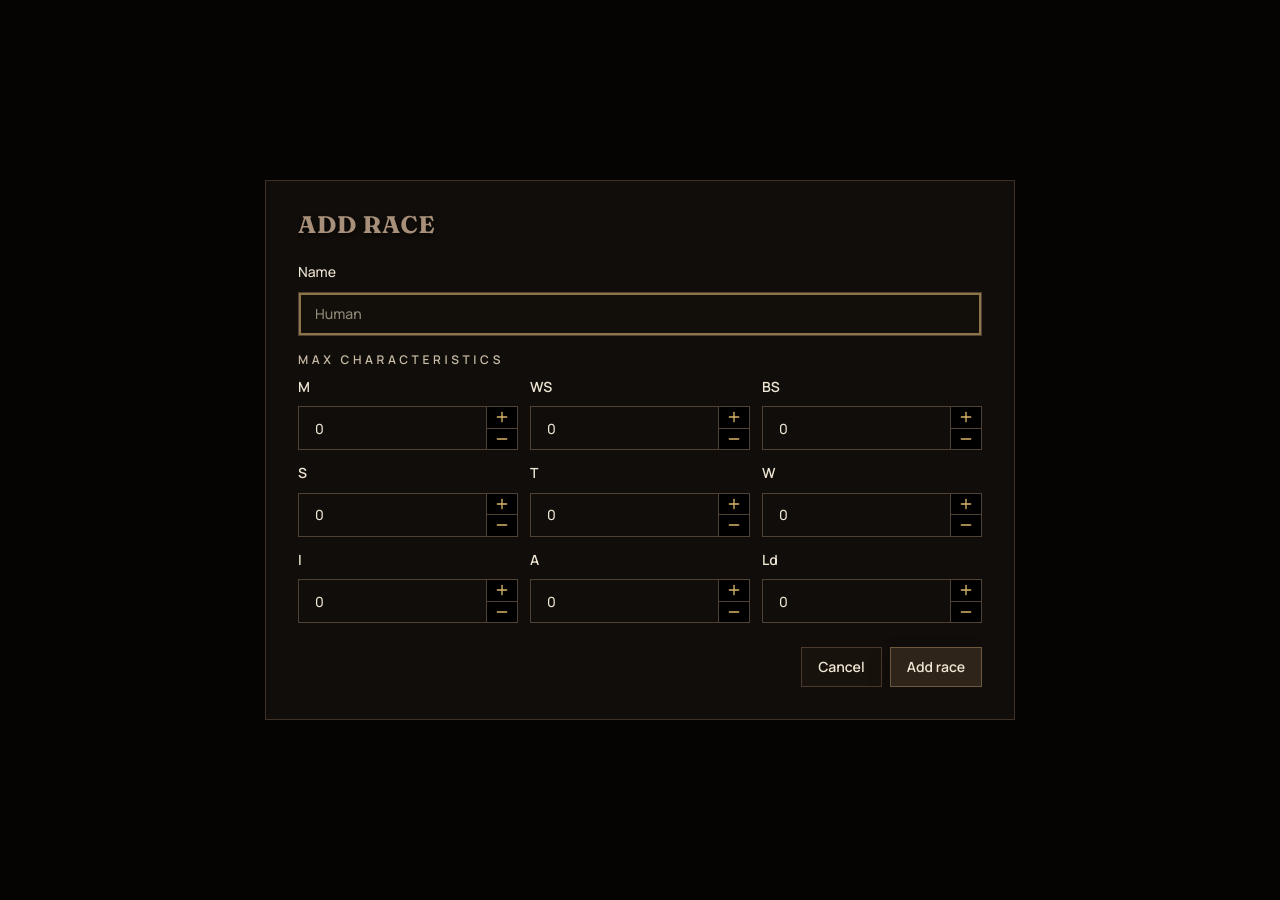
a warband page's dialog: a taken name › lists the matches with no Edit (the dialog can't open one), and restores a book race removed for the campaign
Type "Ogre" into the field with placeholder "Human" at [640, 314], box [298,292,982,336]
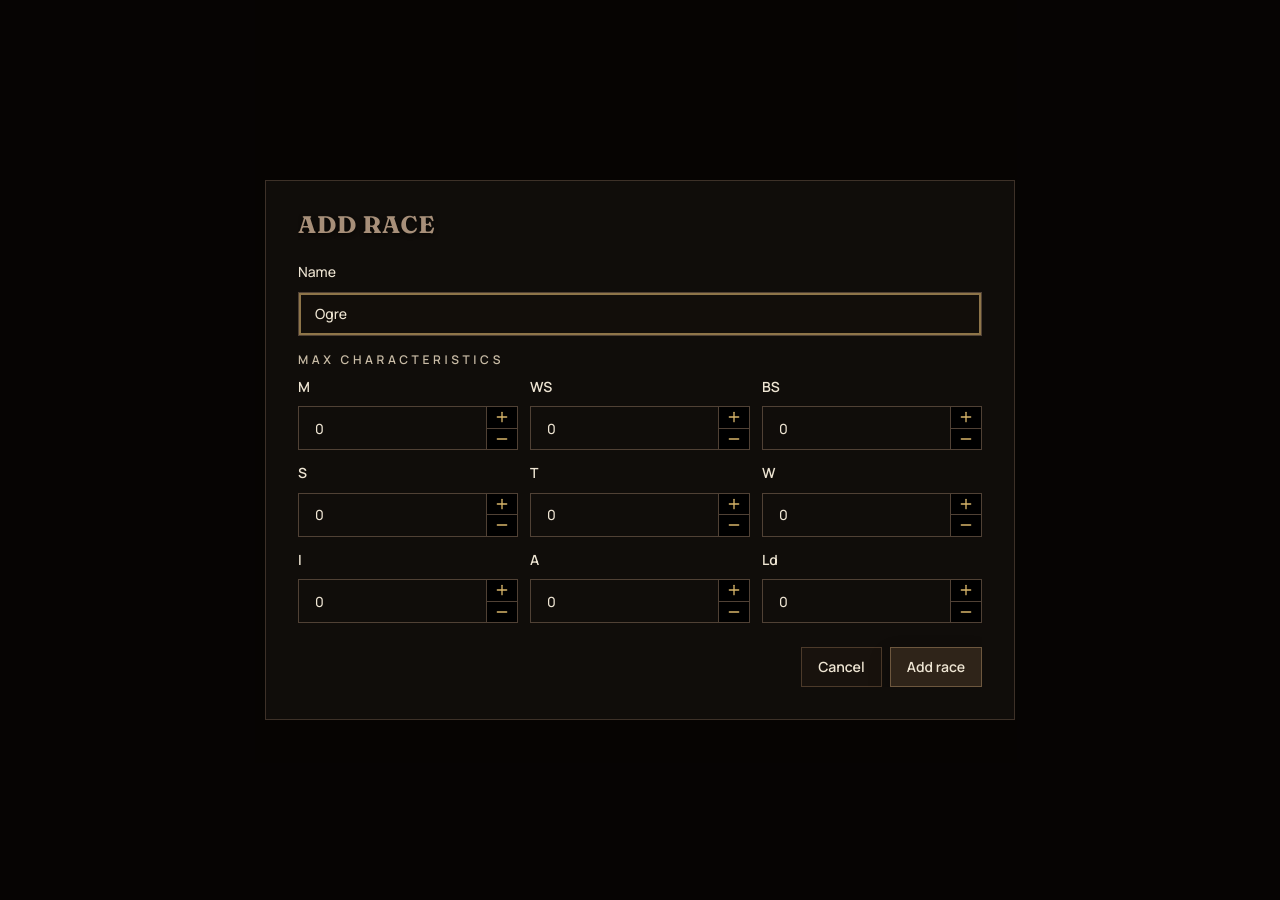
Click the button "Add race" at [936, 667], box [890,647,982,687]
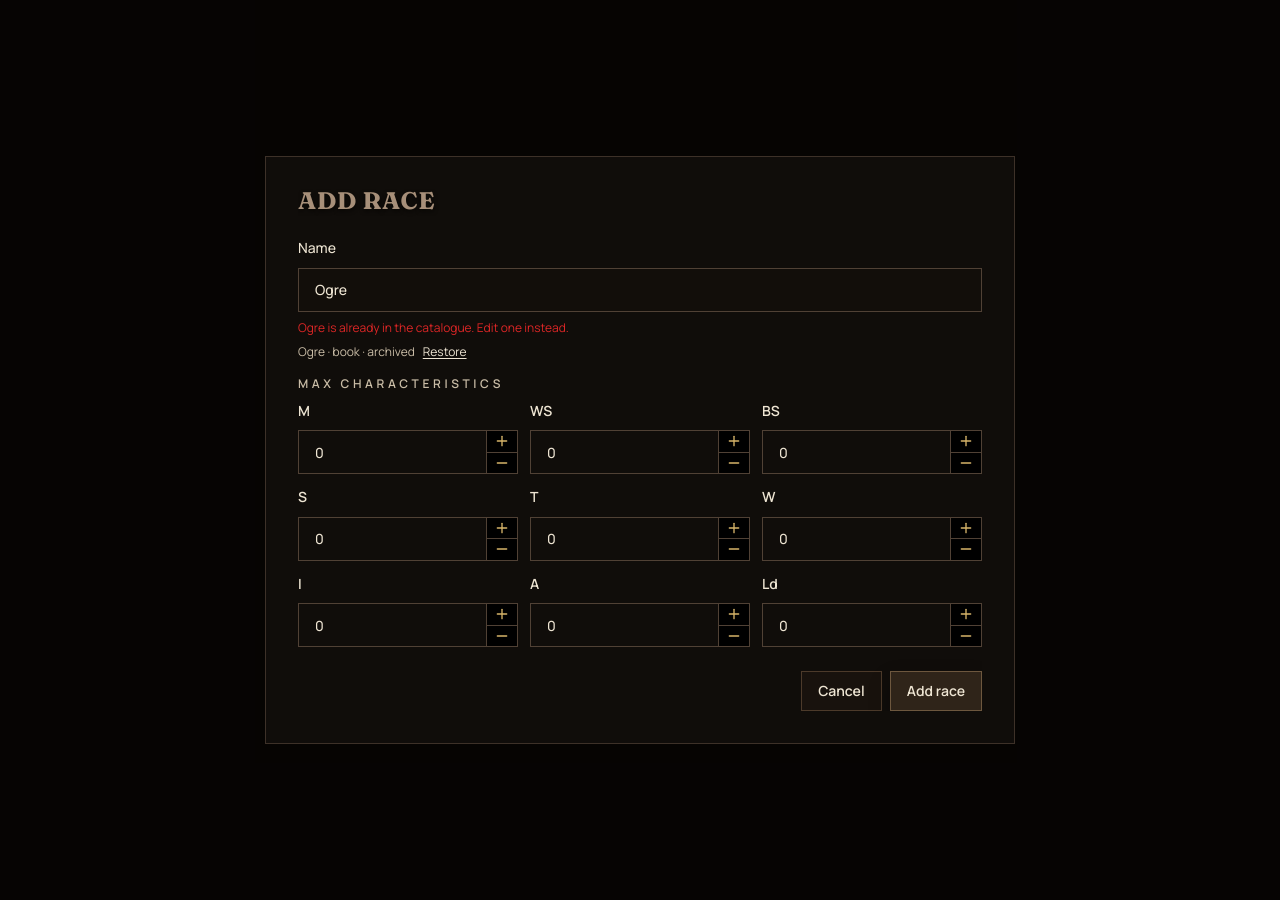
Result: the list item shows "Ogre · book · archived" at [298,342,466,360]
Click the button with aria-label "Restore the book Ogre" at [445, 352], box [423,344,467,360]
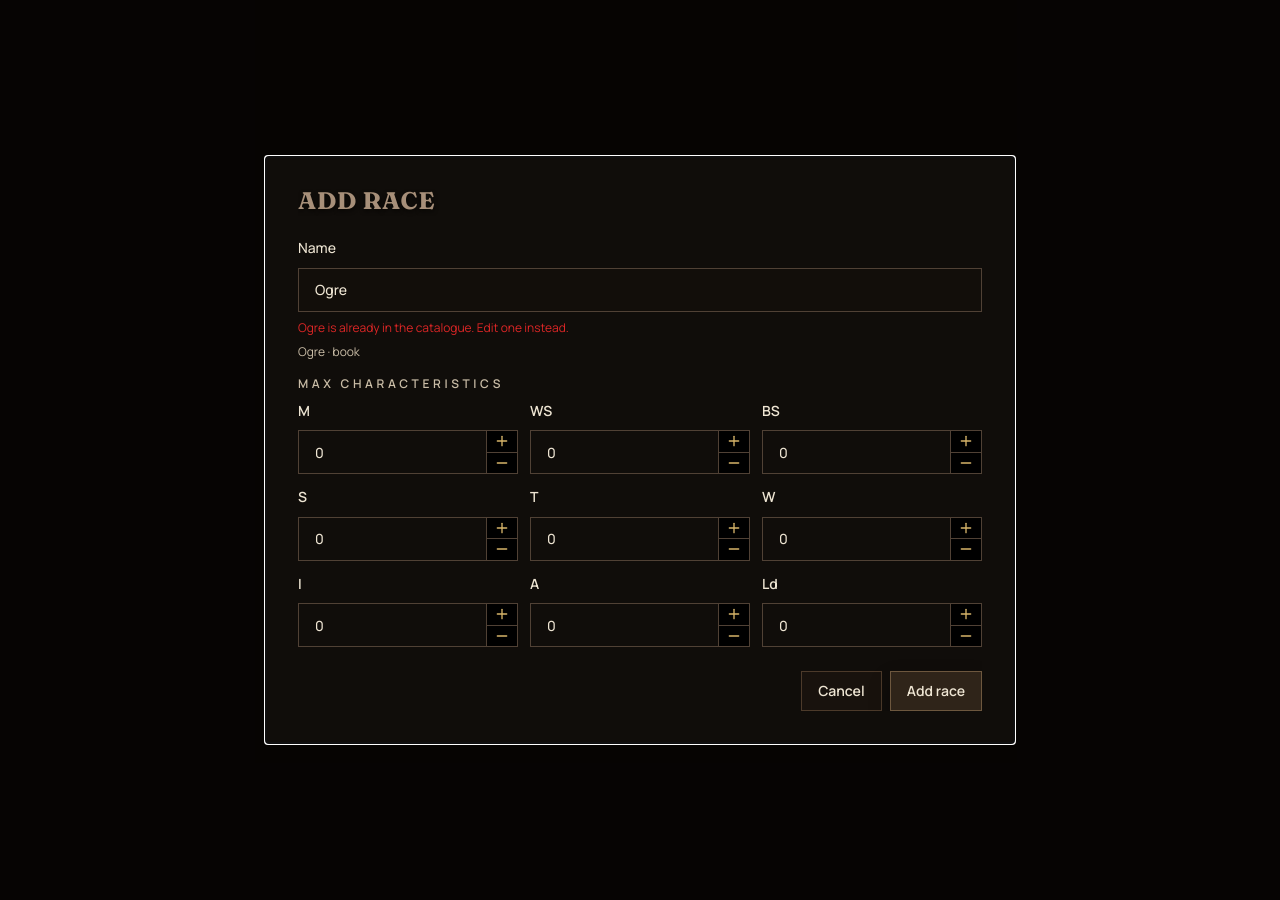
Expected: the list item does not show "archived", [298,342,360,360]
Result: the button "Restore" is gone
